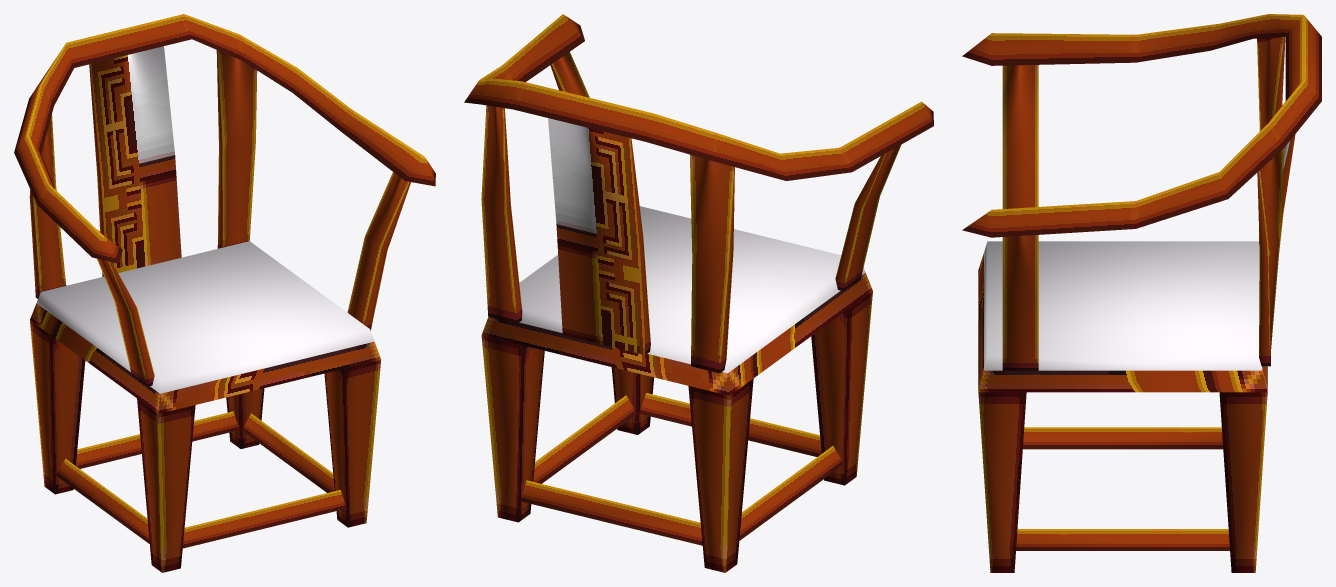
File: rmk_asi_chairS.dae
3 views of the same model, side by side, from view 1: azimuth 30°, elevation 25°; view 2: azimuth 150°, elevation 25°; view 3: azimuth 270°, elevation 25° (orthographic). The views are drawn at different scales.
Parts seen in each view (by area): view 1: rmk_asi_chairS; view 2: rmk_asi_chairS; view 3: rmk_asi_chairS.
Part boxes in pixels (x1,y1,x2,y2): rmk_asi_chairS: [14, 14, 435, 572]; rmk_asi_chairS: [464, 14, 933, 572]; rmk_asi_chairS: [962, 14, 1321, 572].
Size of the model in its own units: 29.65 by 34.4 by 23.89.
2 materials, 2 textured.
